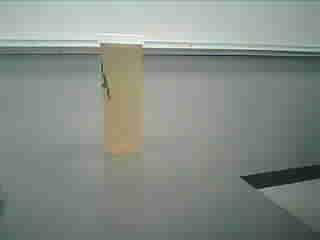Bottle A: (91, 28, 149, 163)
